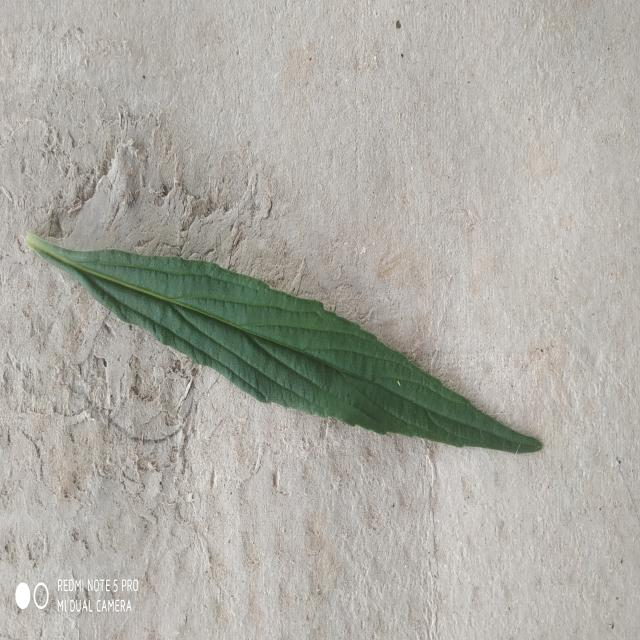thambe: (26, 233, 541, 453)
